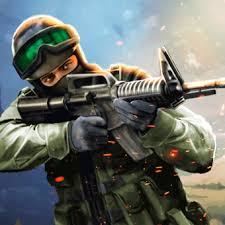gun: (13, 46, 224, 163)
